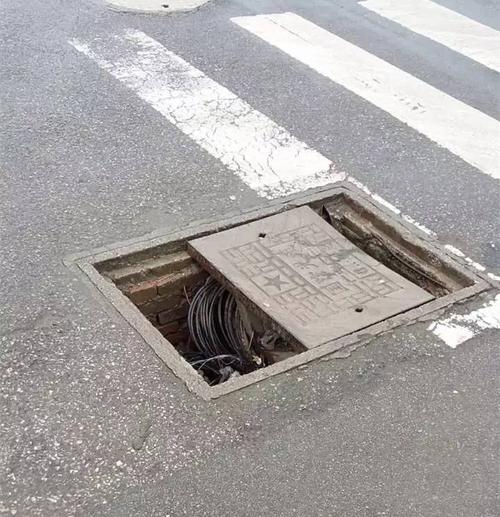lose: (71, 164, 495, 412)
